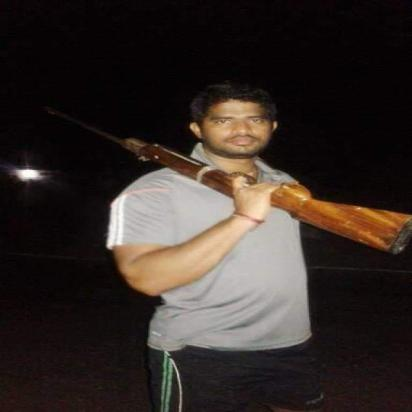Gun: (40, 104, 411, 259)
